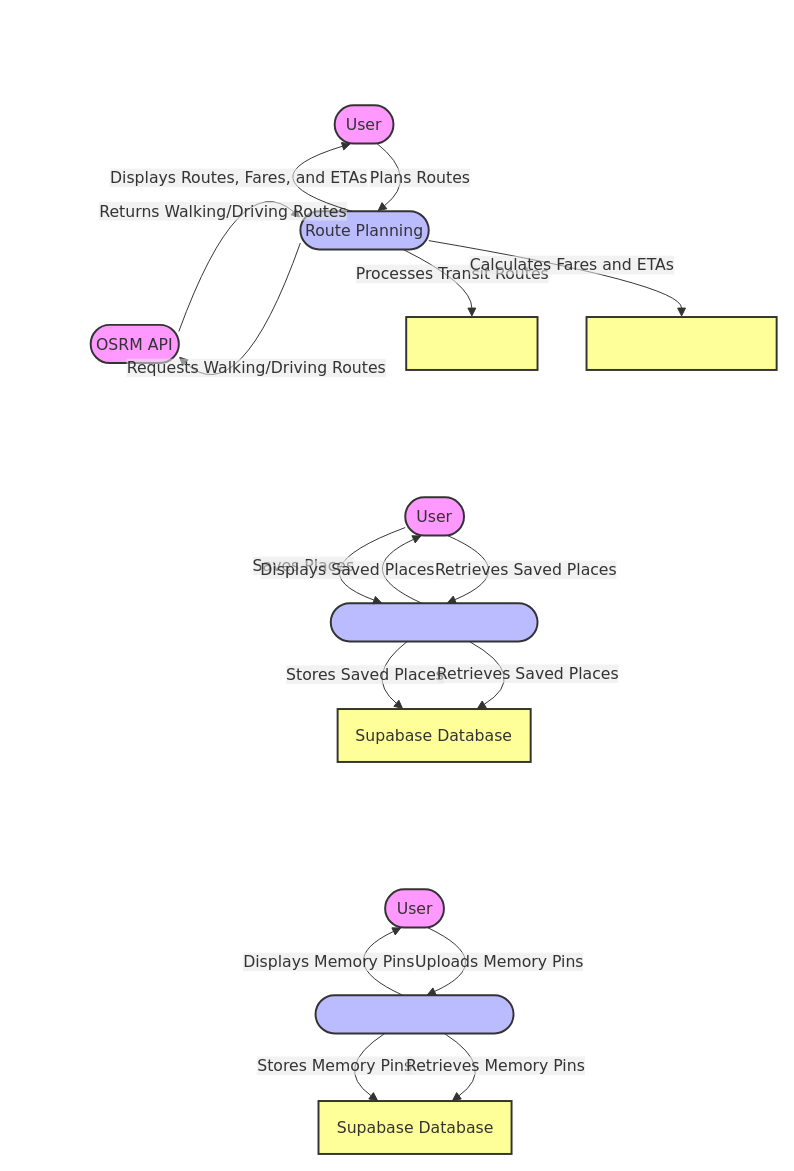
This 794x1171 diagram has some shape labels left out. The shapes that lost their labels are listed below. From the top down, each one's box as (x1, y1, x2, y2) in pixels, then its label:
(405, 316, 538, 370): GTFS Data
(585, 316, 777, 370): Fare Configuration
(329, 602, 538, 642): Saved Places Management
(314, 994, 514, 1034): Memory Pin Management
